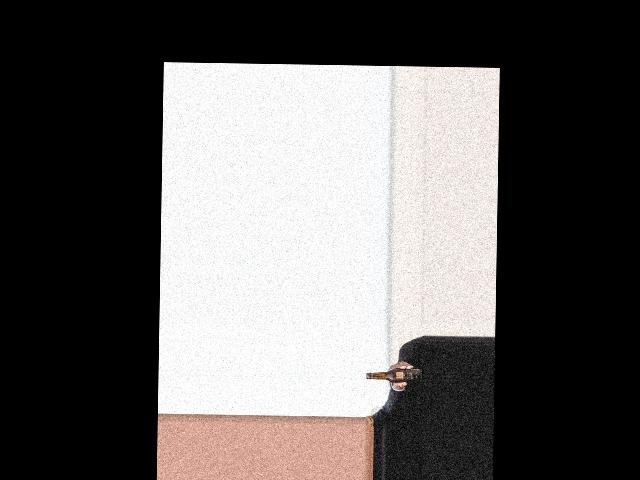beer: (366, 367, 421, 382)
